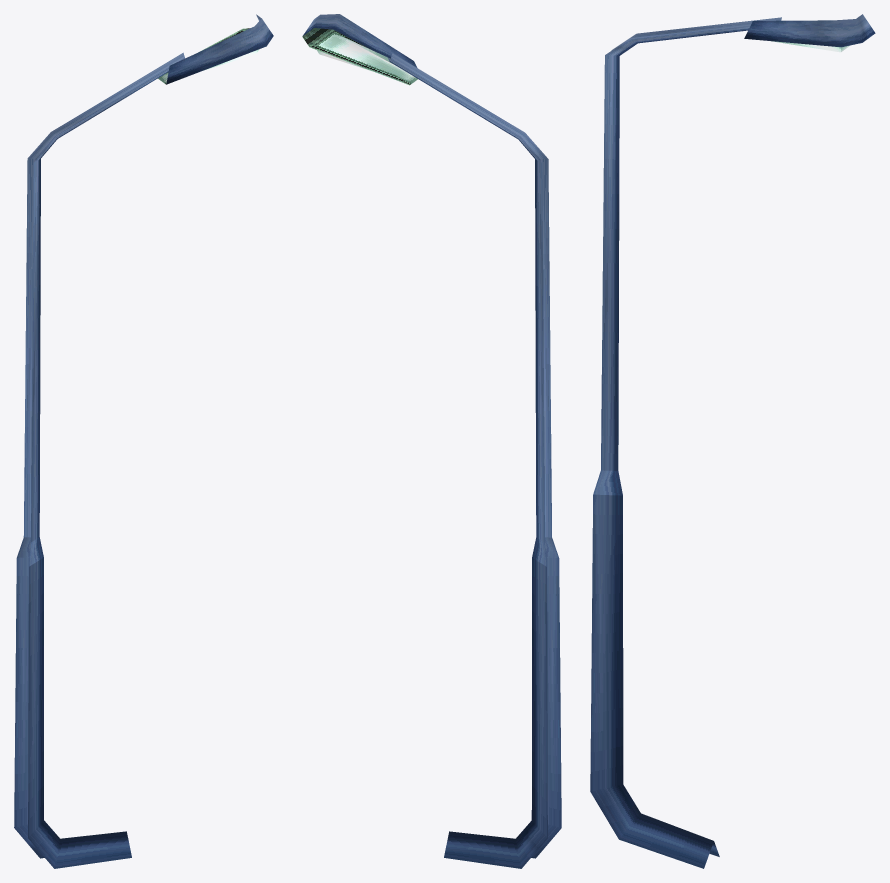
Rendered from stage-flor-p3-404.glb.
3 renders of one model, left to right at view 1: azimuth 30°, elevation 25°; view 2: azimuth 150°, elevation 25°; view 3: azimuth 330°, elevation 25°, orthographic. The views are drawn at different scales.
Size of the model in its own units: 2.88 by 8.97 by 0.4868.
Materials: 1 (1 with a texture image).
